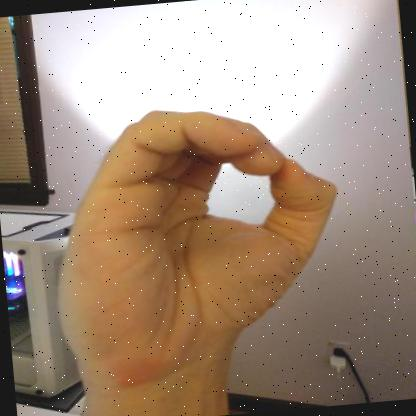O: (58, 110, 337, 389)
